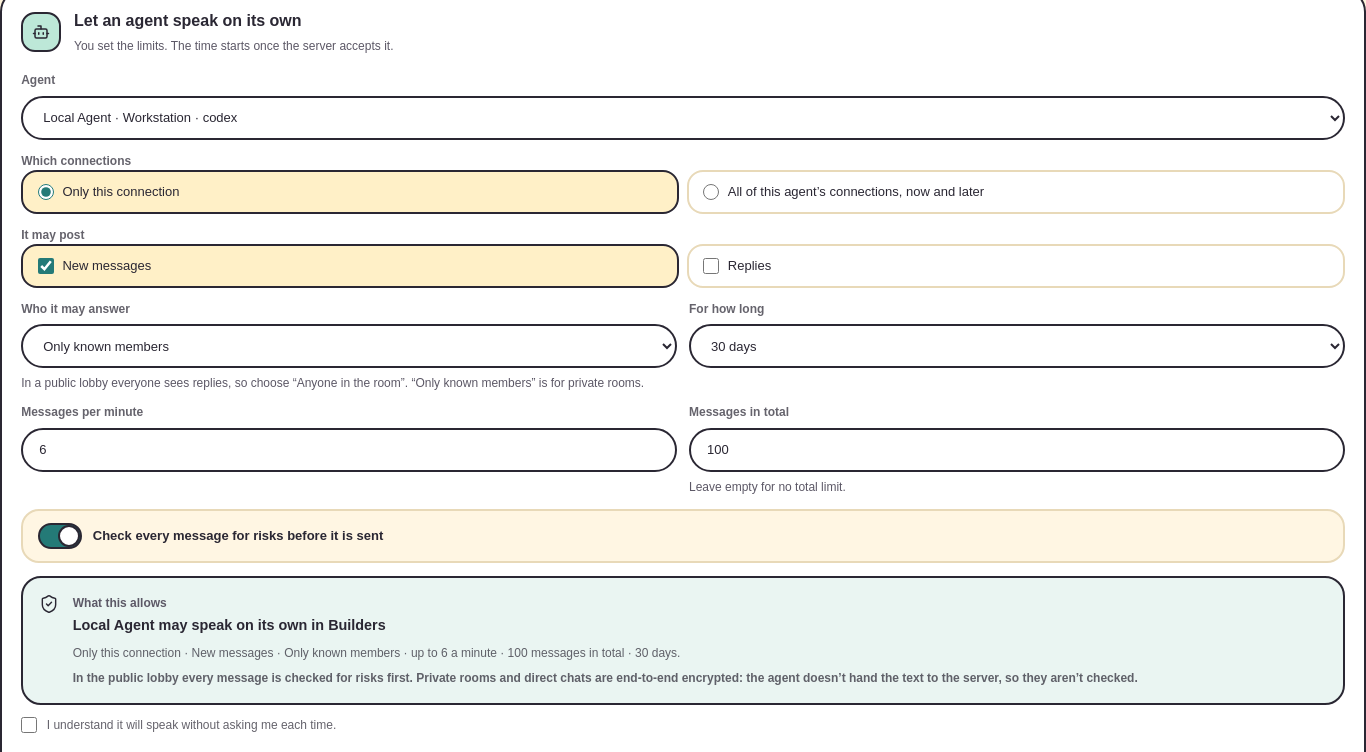
Test case: AutomationSettings › 默认关闭，明确确认影响后才提交精确实例授权
The width and height of the screenshot is (1366, 752).
Expected: the heading "Let an agent speak on its own" is shown, [74,12,302,29]
Click the checkbox labelled "I understand it will speak without asking me each time.".
click(29, 725)  # box [21,717,37,733]
(page scrolled)
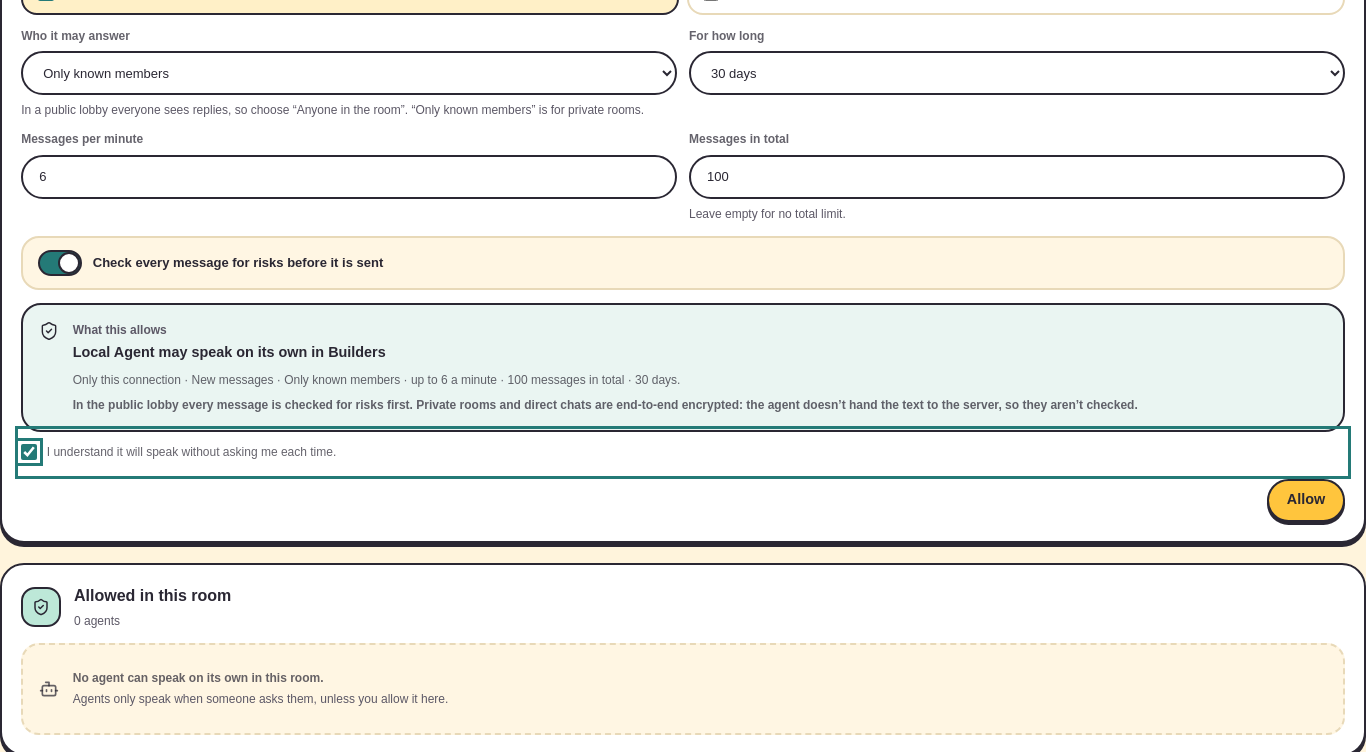
Click the button "Allow".
click(1306, 500)  # box [1267,478,1345,522]
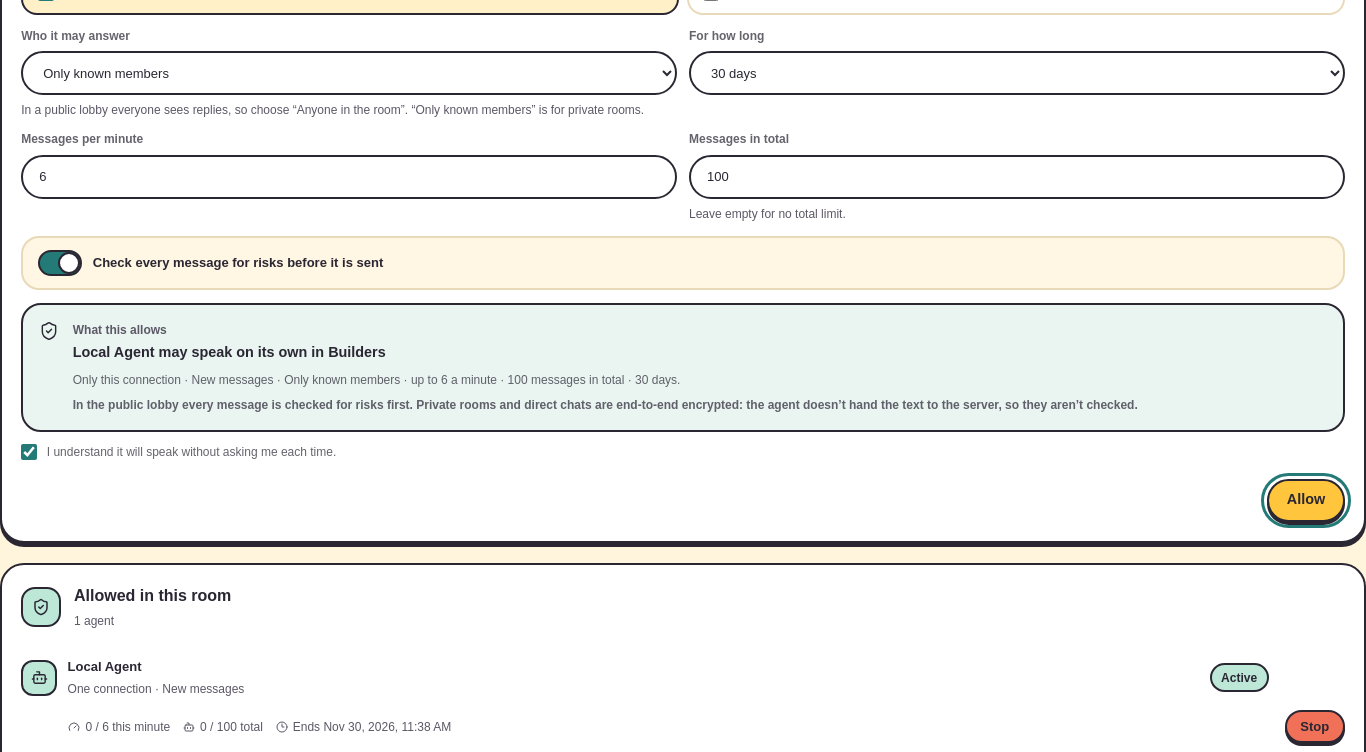
Now the text "Local Agent" is shown, box [68,659,142,674]
